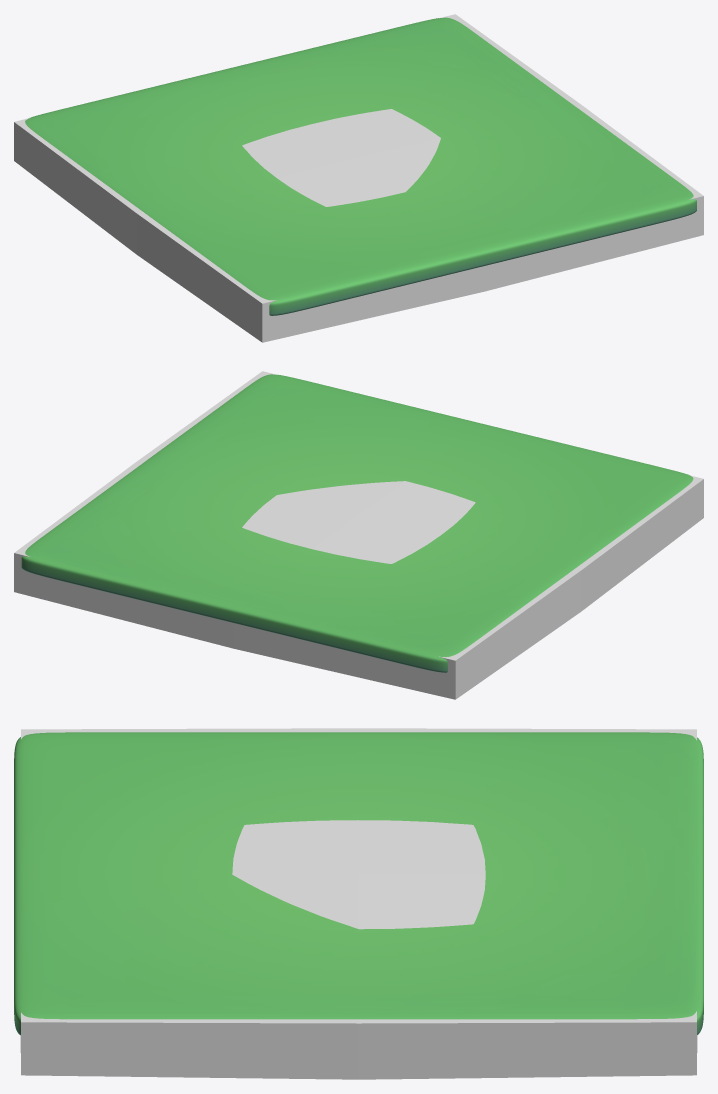
The model's file is PlatformSmallLow_002.glb.
The picture shows the model from 3 angles, top to bottom: view 1: azimuth 30°, elevation 25°; view 2: azimuth 150°, elevation 25°; view 3: azimuth 270°, elevation 25°; orthographic projection. The views are drawn at different scales.
Visible parts, largest first — view 1: PlatformSmallLow.002, colision-colonly.017; view 2: PlatformSmallLow.002, colision-colonly.017; view 3: PlatformSmallLow.002, colision-colonly.017.
Boxes of the visible parts, x1=… form: PlatformSmallLow.002: x1=25, y1=17, x2=696, y2=315; colision-colonly.017: x1=14, y1=14, x2=703, y2=342; PlatformSmallLow.002: x1=21, y1=374, x2=693, y2=672; colision-colonly.017: x1=14, y1=371, x2=703, y2=699; PlatformSmallLow.002: x1=14, y1=732, x2=703, y2=1035; colision-colonly.017: x1=20, y1=728, x2=697, y2=1079.
Size of the model in its own units: 20.25 by 1.86 by 20.
1 material, 1 textured.
